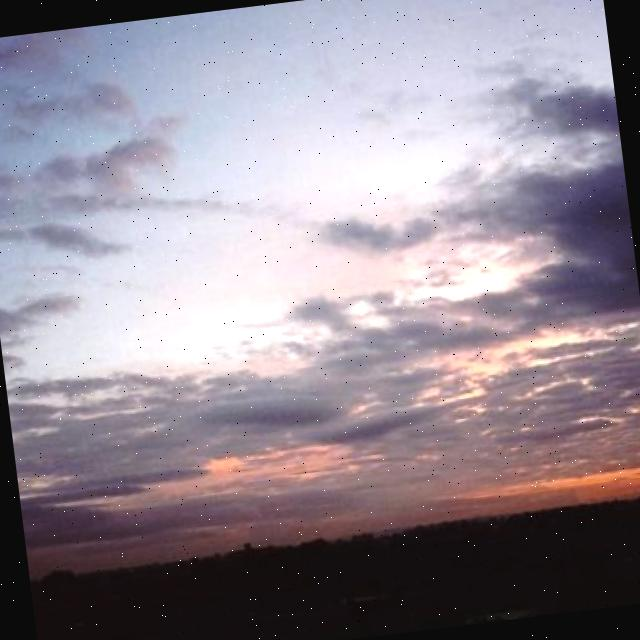Sc: (1, 36, 640, 537)
